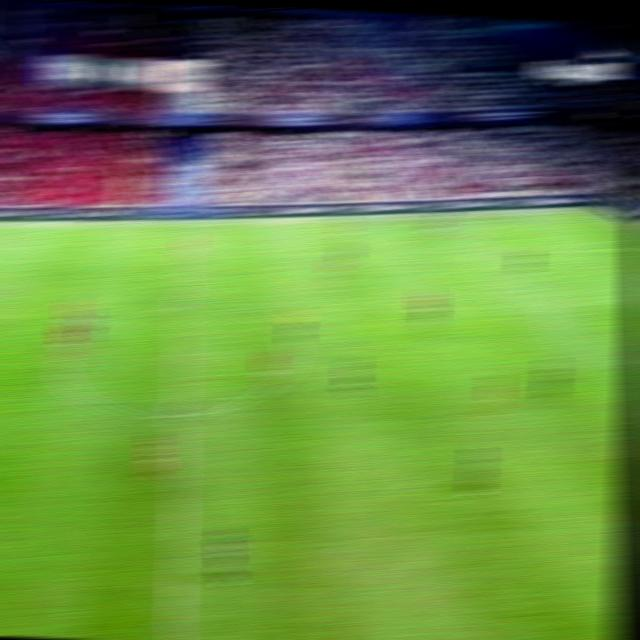bigarea_top_inner: (494, 244, 520, 258)
corner: (574, 205, 607, 216)
halfcircle_bottom: (162, 399, 195, 426)
halfcircle_top: (166, 295, 197, 318)
midline_top_intersection: (168, 217, 194, 233)
top_arc_area_intersection: (546, 290, 570, 304)
